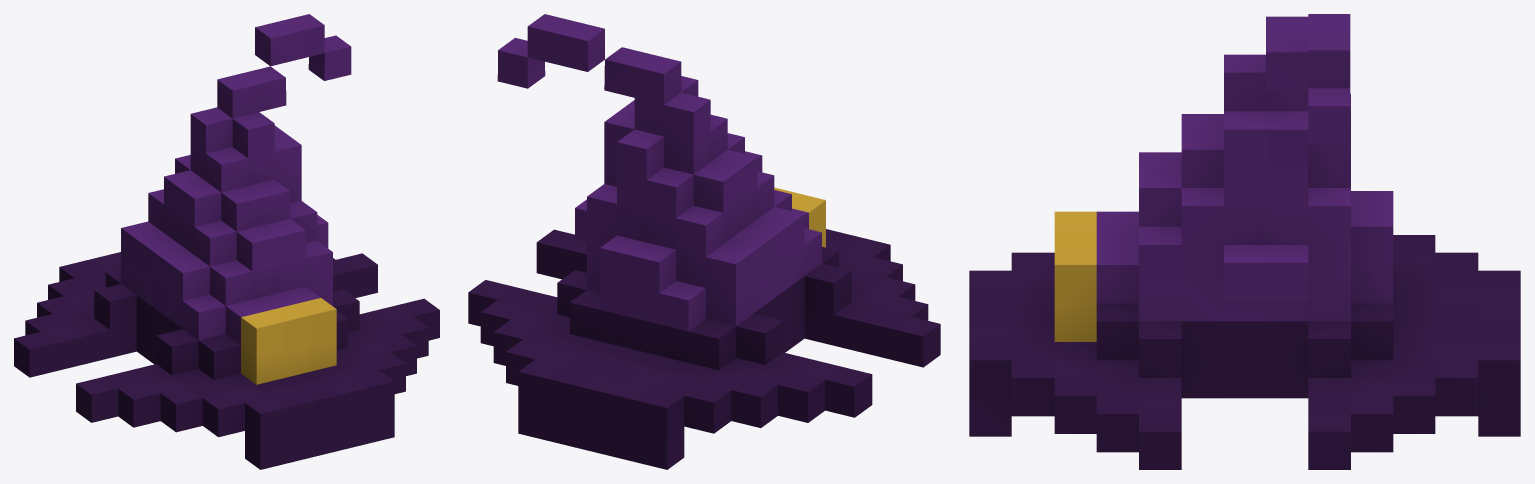
The model's file is hat_witch.glb.
3 views of the same model, side by side, from view 1: azimuth 30°, elevation 25°; view 2: azimuth 150°, elevation 25°; view 3: azimuth 270°, elevation 25° (orthographic). The views are drawn at different scales.
Parts seen in each view (by area): view 1: Hat; view 2: Hat; view 3: Hat.
Boxes of the visible parts, <box> form: Hat: <box>14,14,439,469</box>; Hat: <box>468,14,940,469</box>; Hat: <box>969,14,1520,469</box>.
Bounding box in the file's own units: 1.43 × 1.21 × 1.43.
